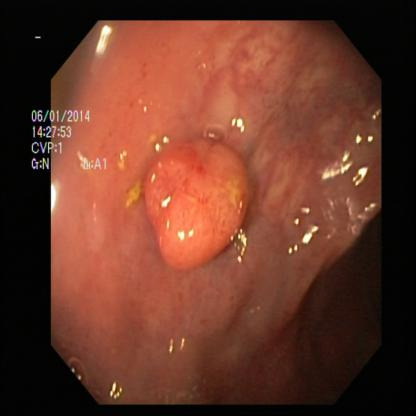Labels: (22, 101, 108, 177)
Polyps: (145, 140, 255, 269)
